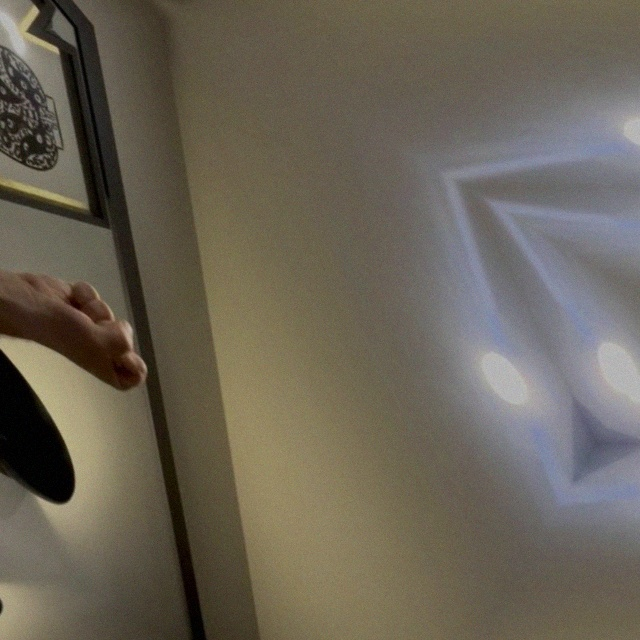Rock: (0, 229, 204, 433)
